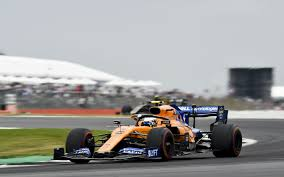FormulaOneCar: (49, 89, 246, 169)
